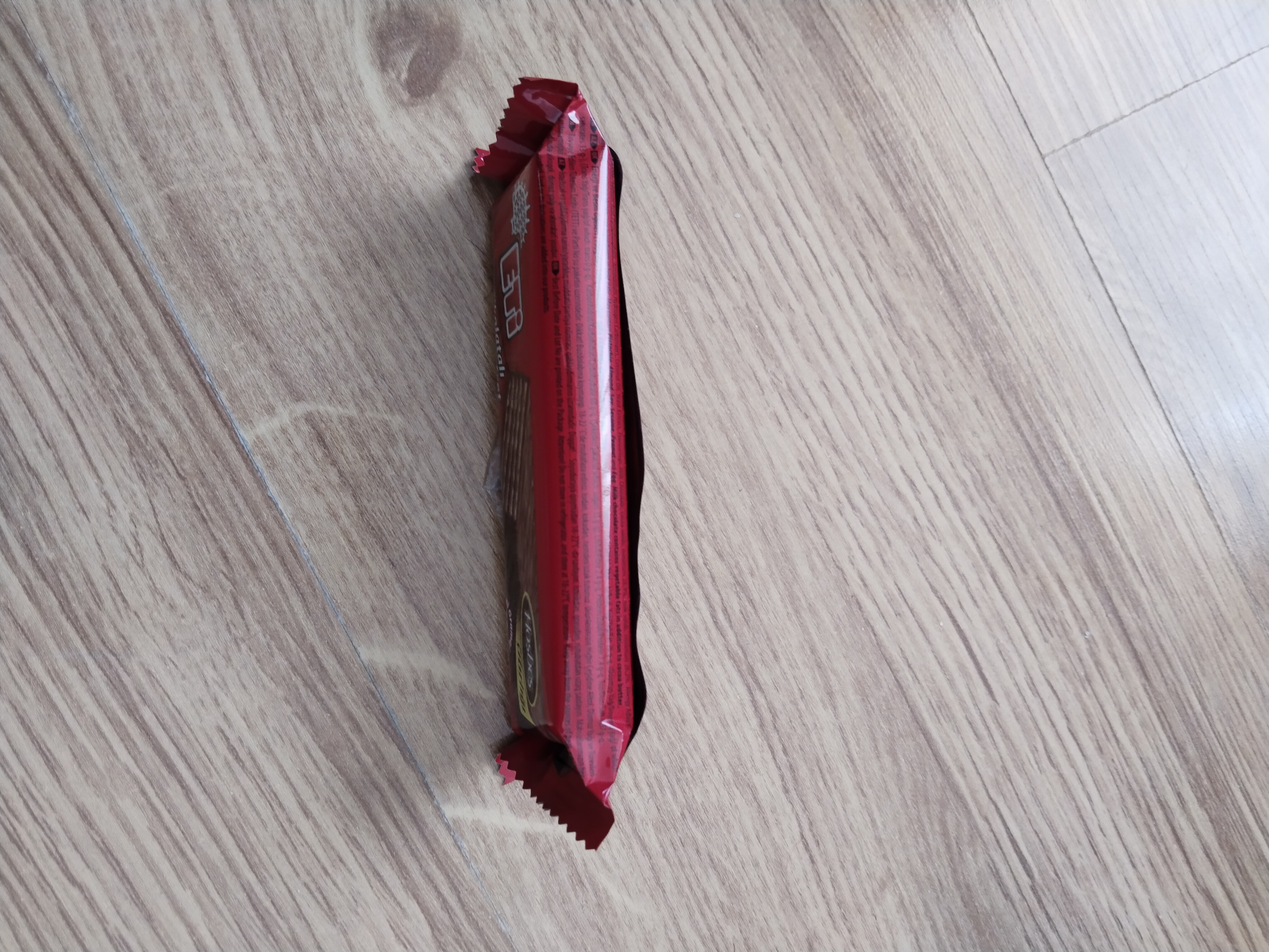eti_hosbes_gofret: (475, 80, 641, 841)
